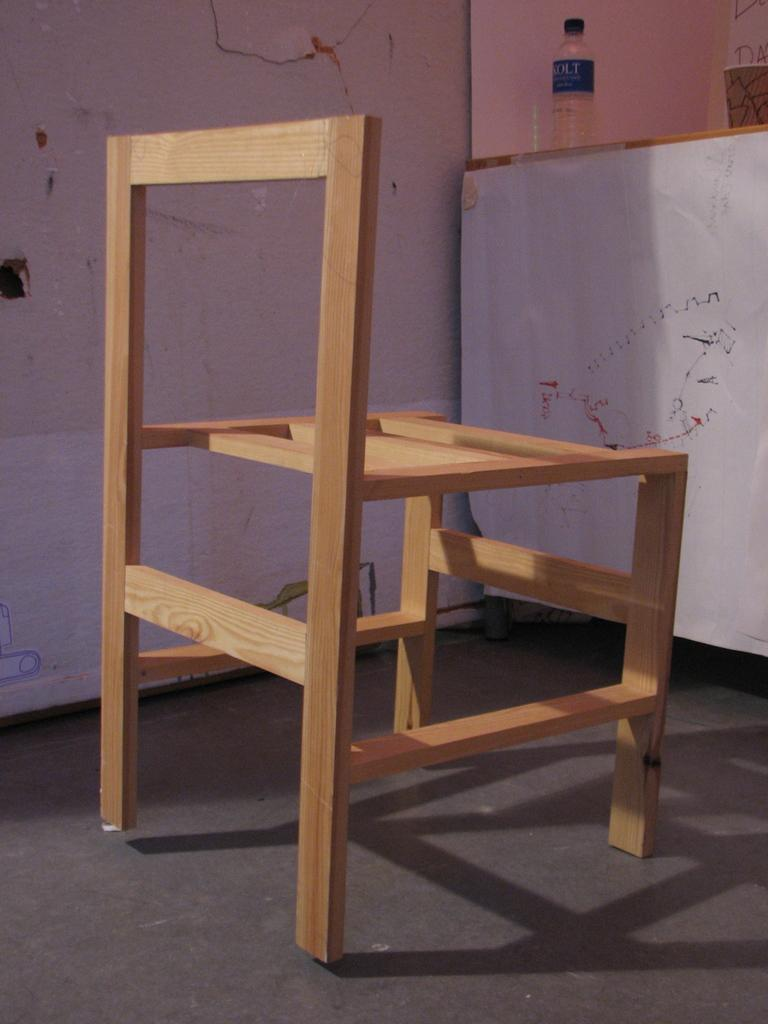Chair: (72, 131, 674, 887)
